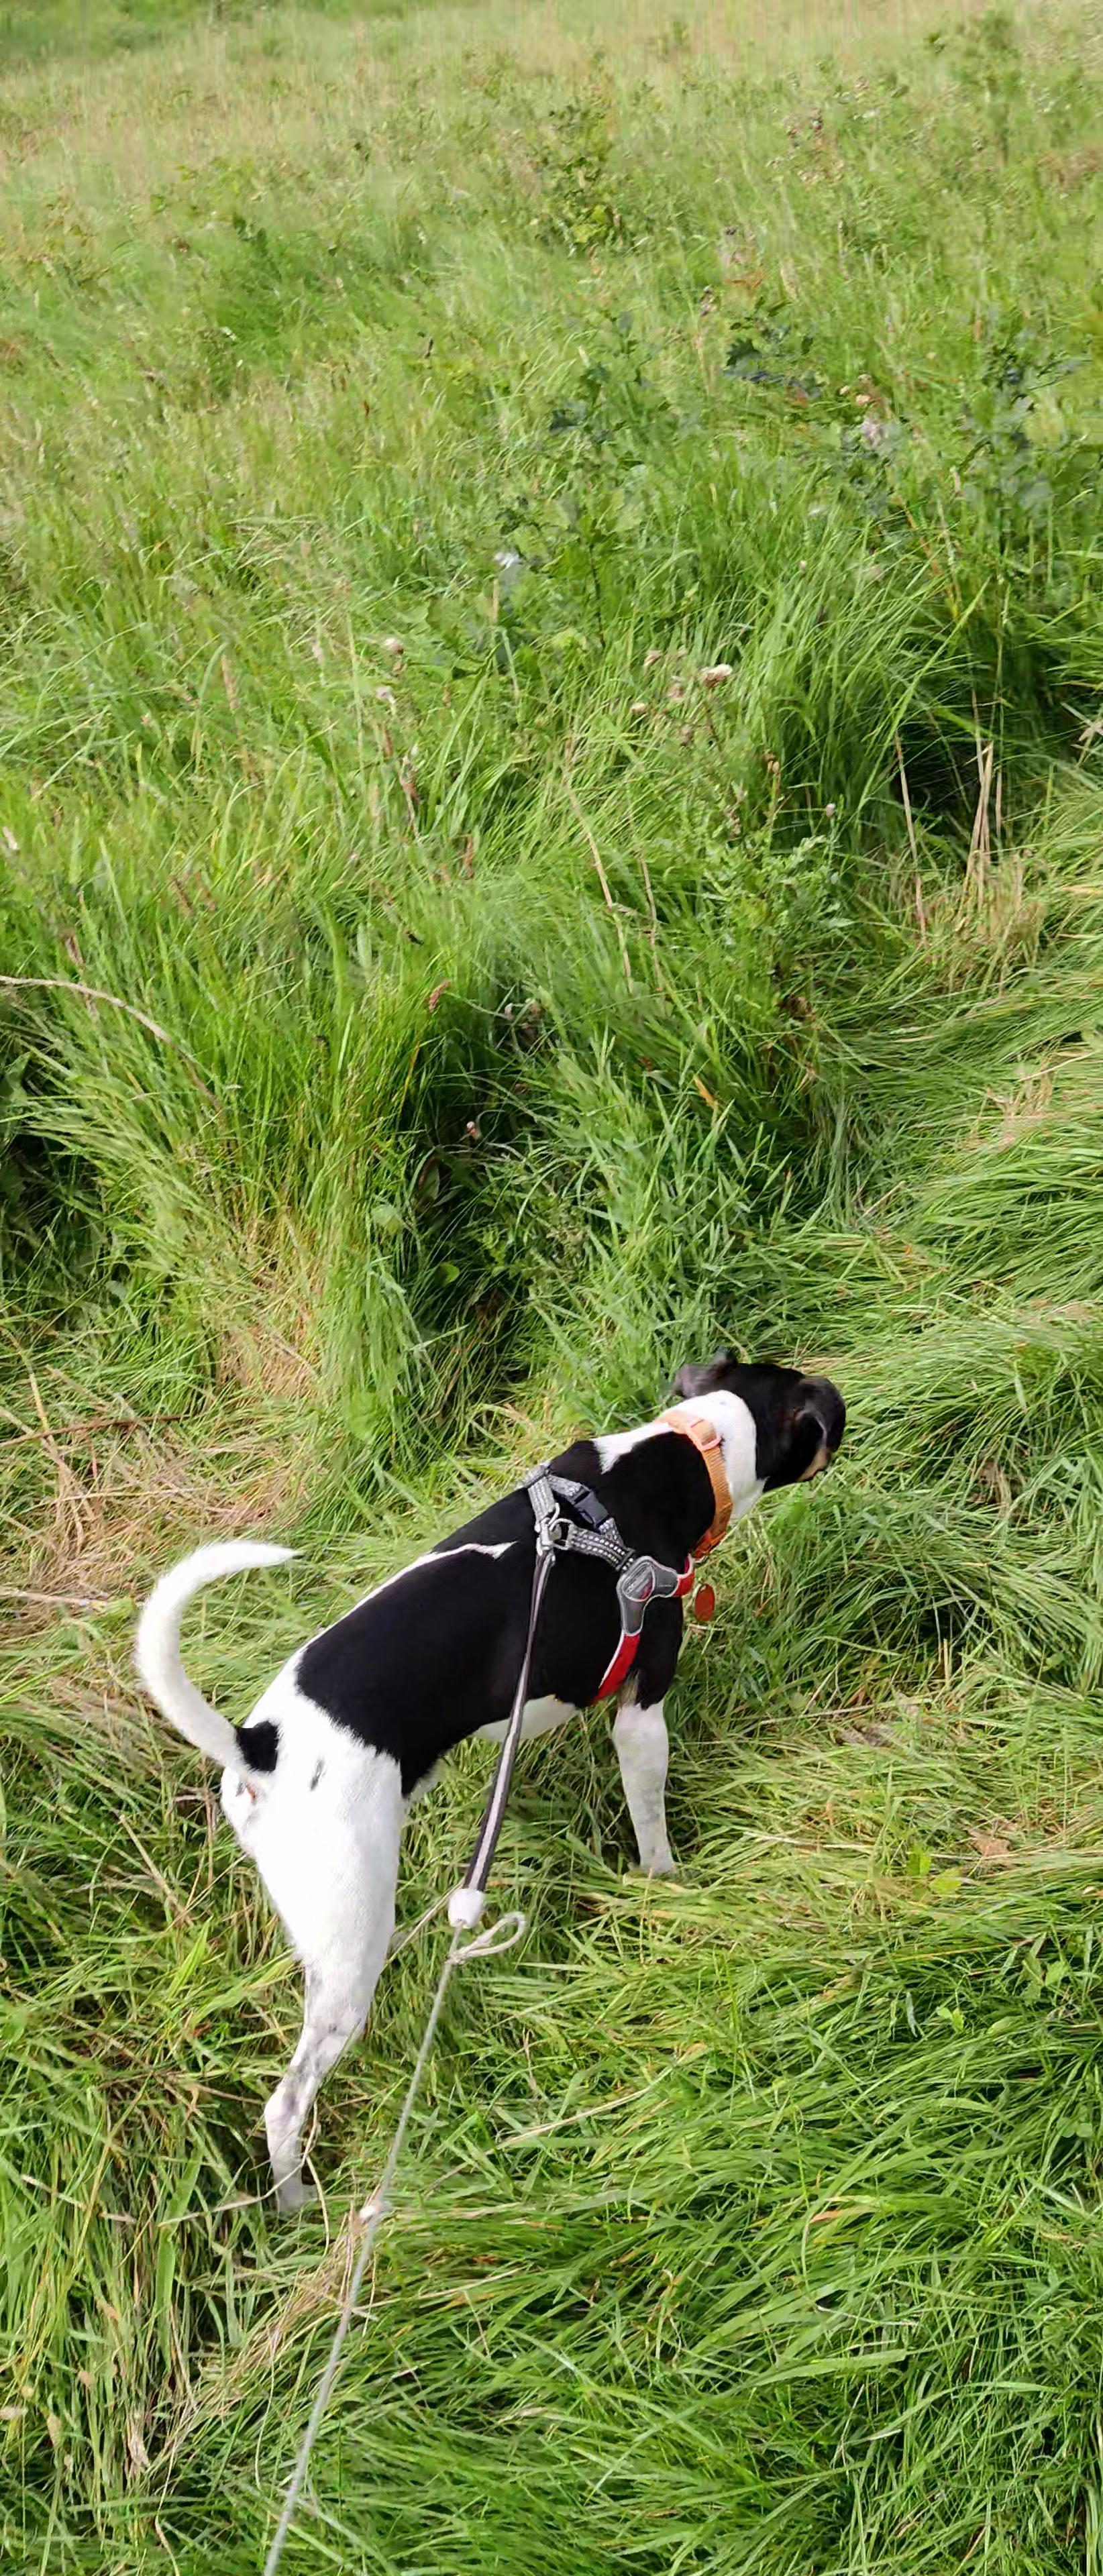Dog: (125, 1336, 870, 2252)
